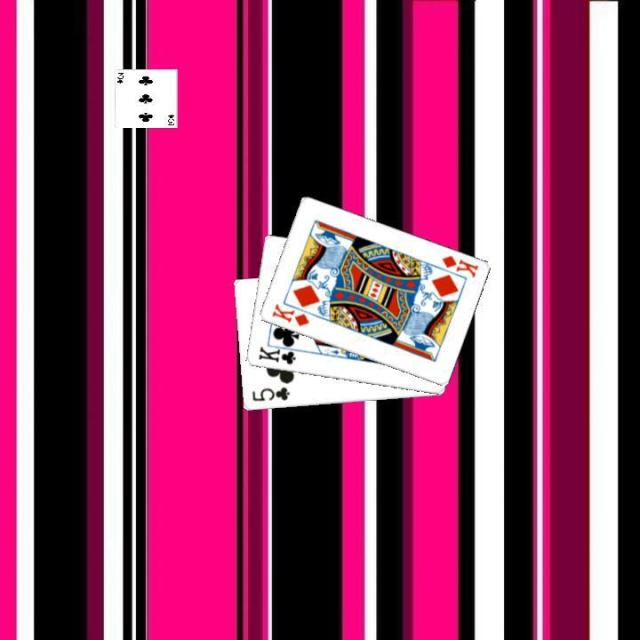5C: (248, 383, 291, 404)
KC: (254, 341, 302, 366)
KD: (268, 300, 311, 328), (437, 252, 480, 279)
